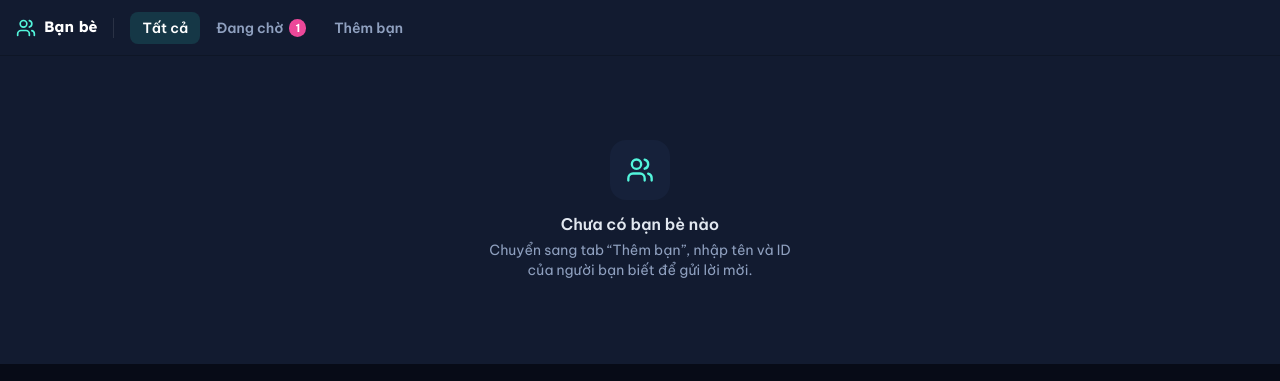
Test: trang Bạn bè › tab Đang chờ có huy hiệu số lời mời đến, chấp nhận / từ chối / hủy gọi đúng service
Later steps or results of the test are not shown.
Click the button "Đang chờ 1" at point(261, 28), box [204,12,318,44]
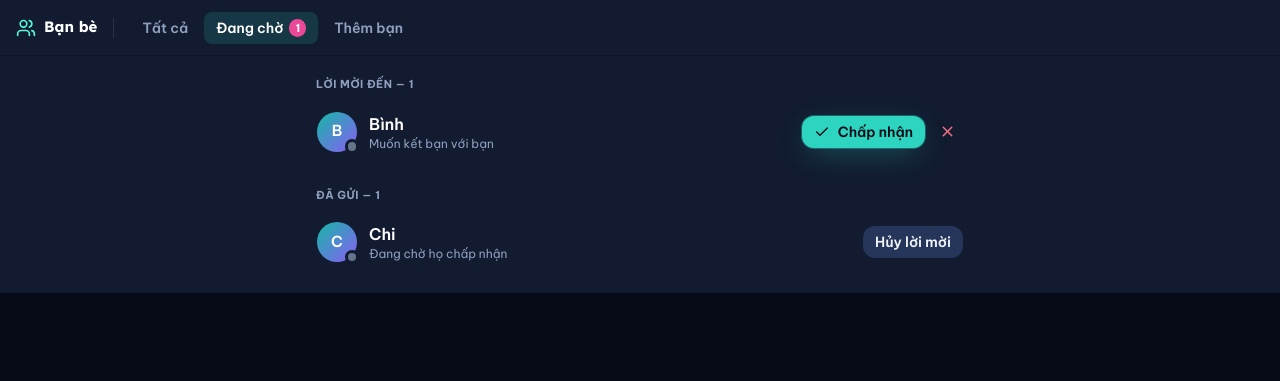
Check: the text "Muốn kết bạn với bạn" is shown, box [369,136,494,150]
Click the button "Chấp nhận" at point(863, 132), box [802,116,925,148]
Check: the button named "Từ chối" is enabled
Click the button named "Từ chối" at point(947, 132), box [931,116,963,148]
Check: the button named "Từ chối" is enabled, box [931,116,963,148]
